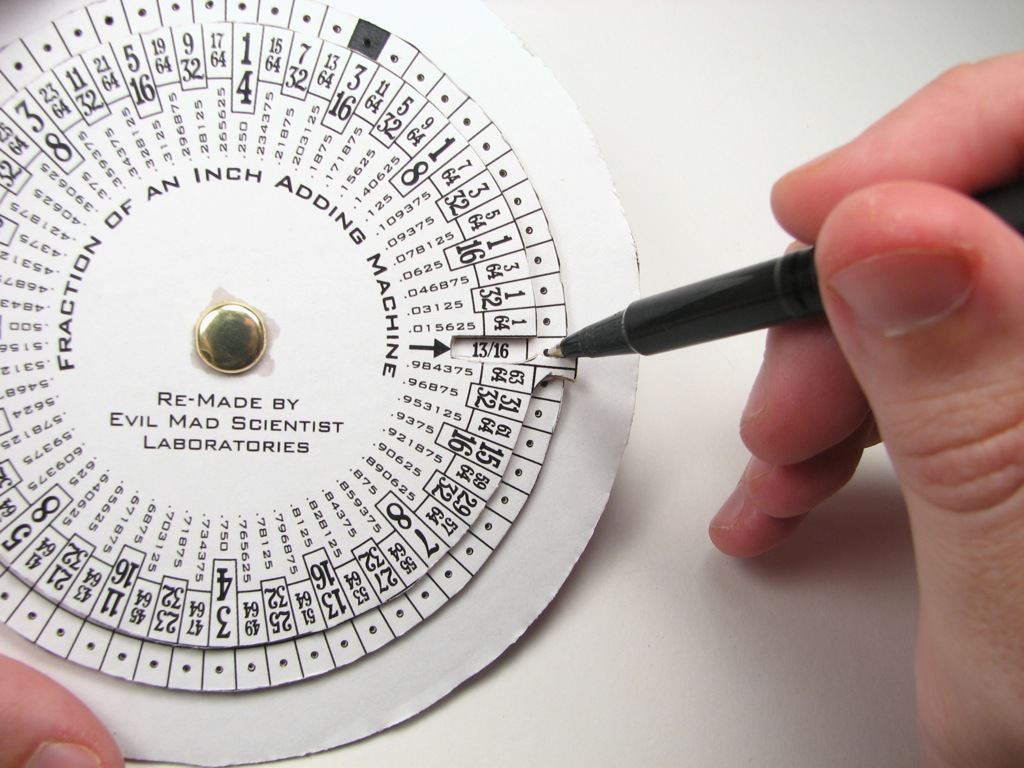Pen: (540, 187, 1023, 351)
